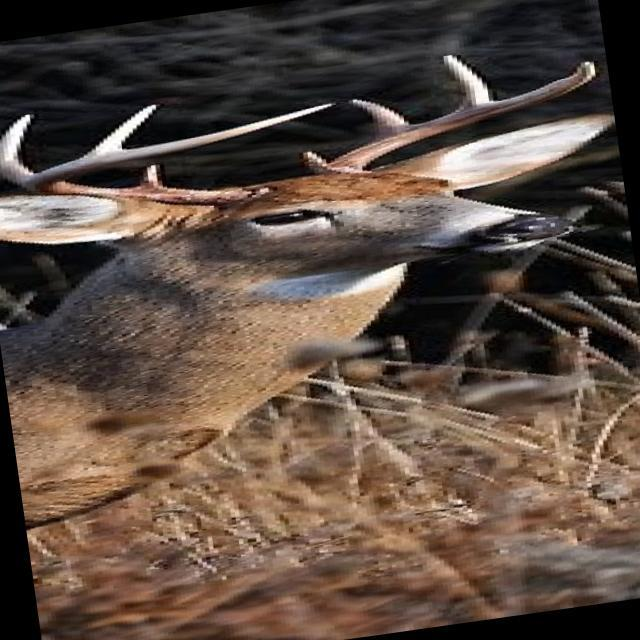L-G1: (301, 151, 328, 171)
L-G2: (349, 99, 413, 137)
L-G3: (441, 54, 494, 111)
R-F: (22, 103, 336, 213)
R-G1: (136, 164, 163, 188)
R-G2: (0, 114, 37, 187)
R-G3: (81, 103, 161, 158)
